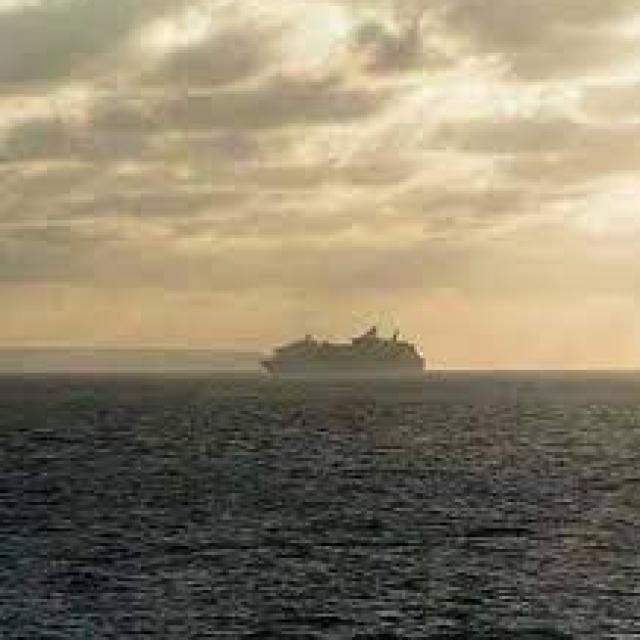cargoship: (246, 316, 439, 374)
